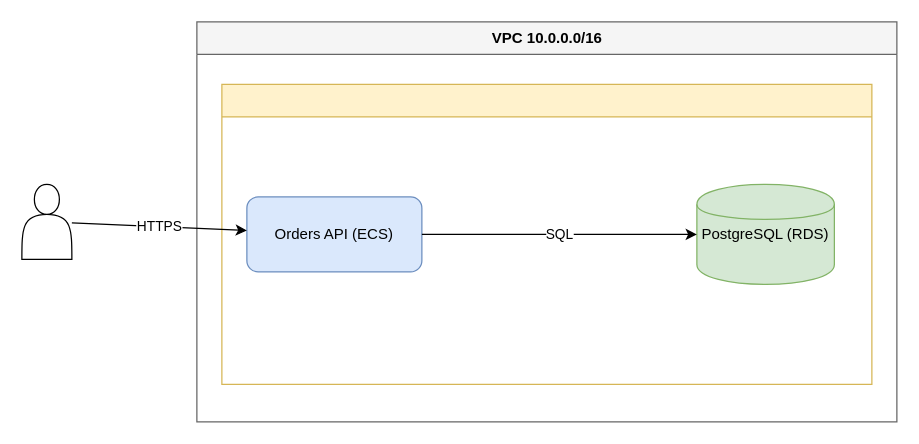
Some shapes in this 919 by 444 pixel diagram are drawn without their labels. Each missing label, with the box of its shape:
Private subnet 10.0.2.0/24: (221, 83, 872, 384)
Users: (21, 183, 72, 259)
